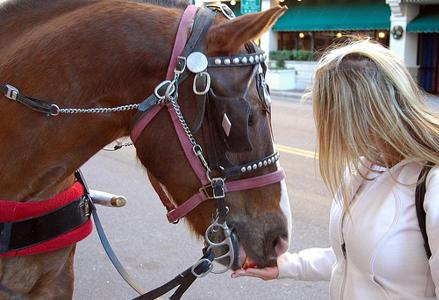person: (232, 46, 439, 300)
